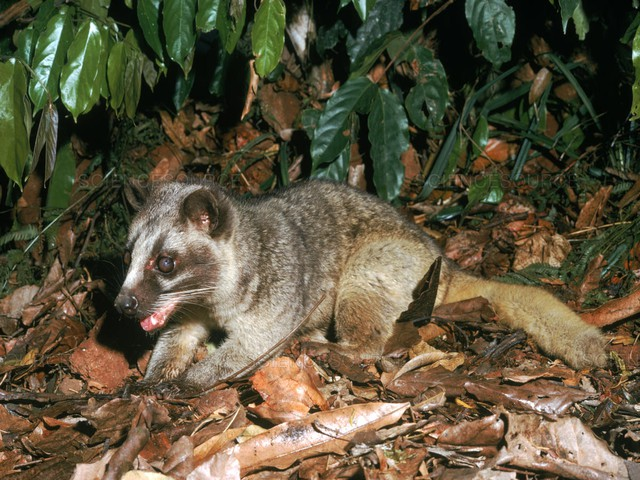civet: (112, 174, 612, 391)
